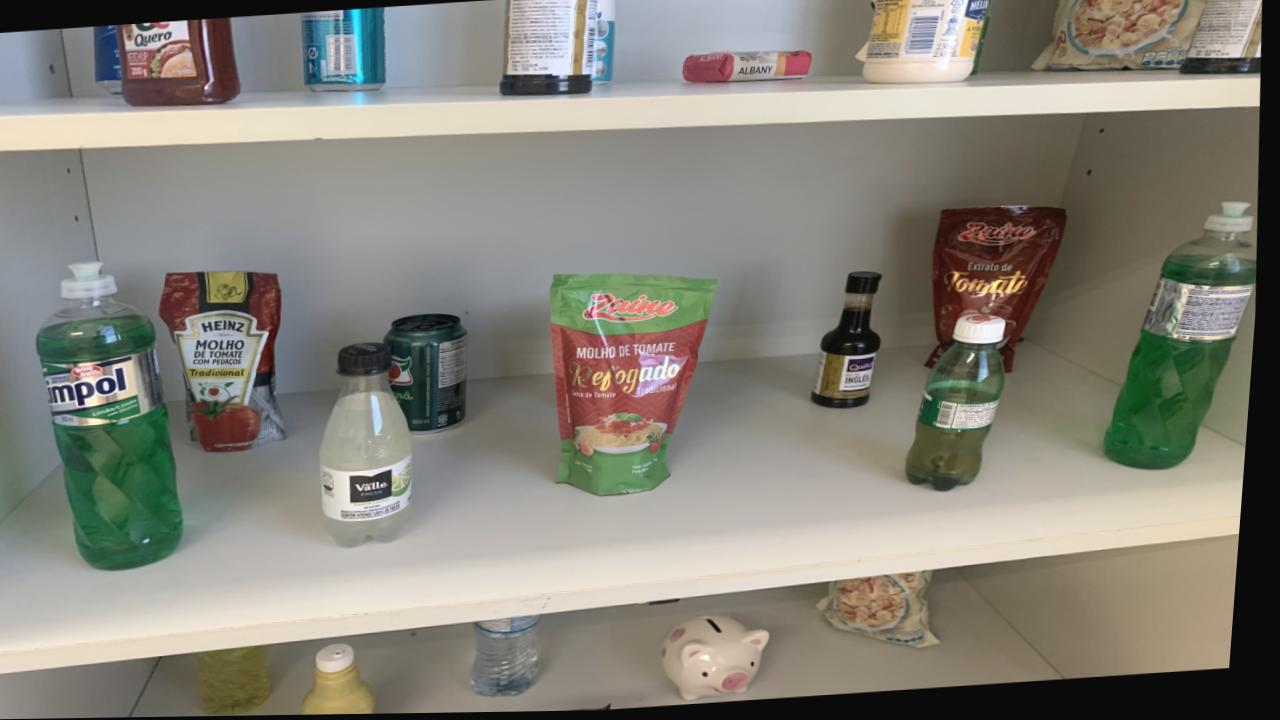Cleaner-Cleanup_Items: (593, 0, 616, 85)
Detergent-Cleanup_Items: (41, 262, 190, 570), (1112, 206, 1260, 472), (209, 646, 282, 716)
English_Sauce-Pantry_Items: (500, 0, 599, 98), (817, 275, 885, 411), (1181, 0, 1262, 78)
Flakes-Snacks: (1034, 0, 1207, 75), (825, 573, 950, 651)
Guarana-Drinks: (914, 316, 1010, 494)
Guarana_Can-Drinks: (389, 315, 471, 435)
Ketchup-Pantry_Items: (118, 18, 240, 107)
Mayonnaise-Pantry_Items: (863, 0, 992, 87)
Mustard-Pantry_Items: (312, 645, 384, 716)
Pig_Safe-Miscellaneous: (672, 618, 780, 703)
Soap-Cleanup_Items: (683, 53, 813, 85)
Soda-Drinks: (326, 344, 418, 549)
Tea-Drinks: (301, 9, 386, 93)
Tomato_Sauce-Pantry_Items: (554, 275, 722, 497), (929, 209, 1070, 374), (164, 272, 291, 452)
Tonic-Drinks: (93, 26, 123, 83)
Water_Bottle-Drinks: (479, 617, 550, 698)
